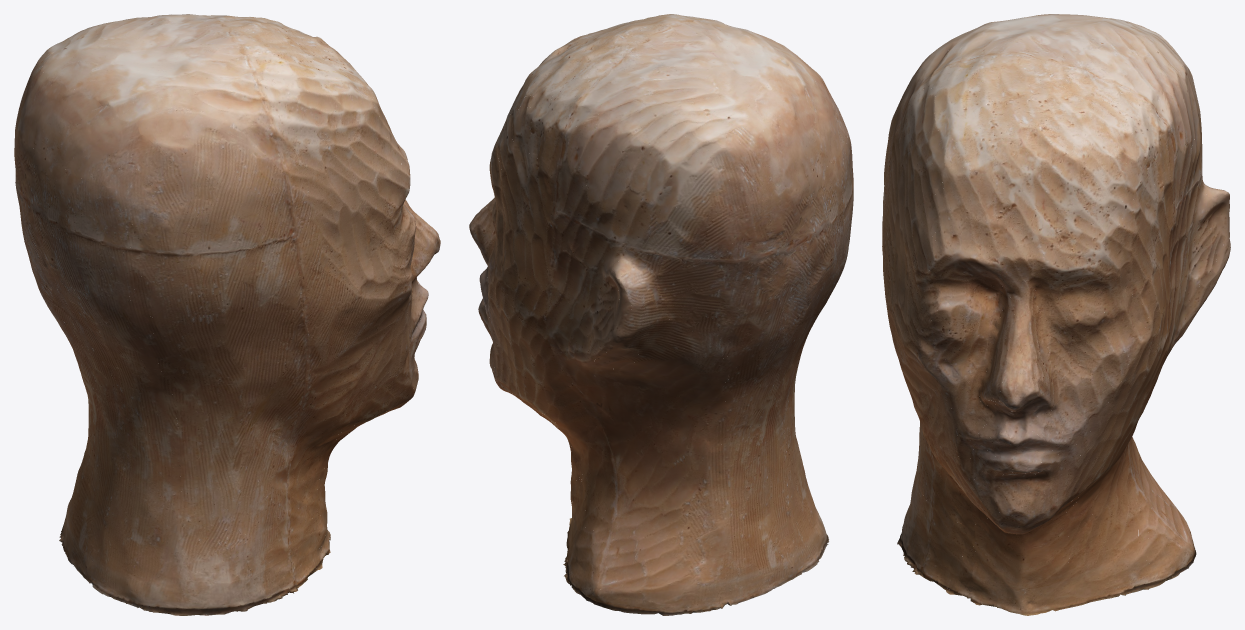
The model's file is jagak.glb.
The picture shows the model from 3 angles, left to right: view 1: azimuth 30°, elevation 25°; view 2: azimuth 150°, elevation 25°; view 3: azimuth 270°, elevation 25°; orthographic projection.
Parts seen in each view (by area): view 1: Mesh_0_Part_0; view 2: Mesh_0_Part_0; view 3: Mesh_0_Part_0.
Boxes of the visible parts, box(x1,y1,x2,y2) form: Mesh_0_Part_0: box(14, 14, 440, 615); Mesh_0_Part_0: box(469, 14, 853, 615); Mesh_0_Part_0: box(882, 14, 1230, 615).
Bounding box in the file's own units: 2.12 × 2.79 × 1.71.
1 material, 1 textured.
